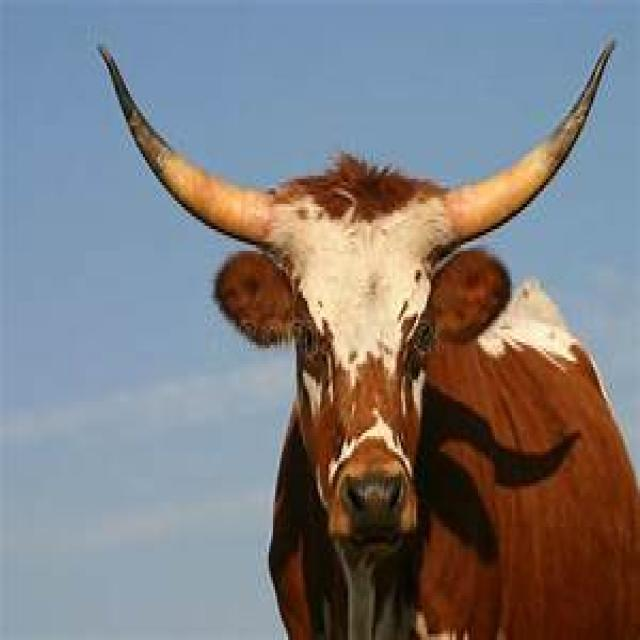cow: (102, 44, 640, 637)
